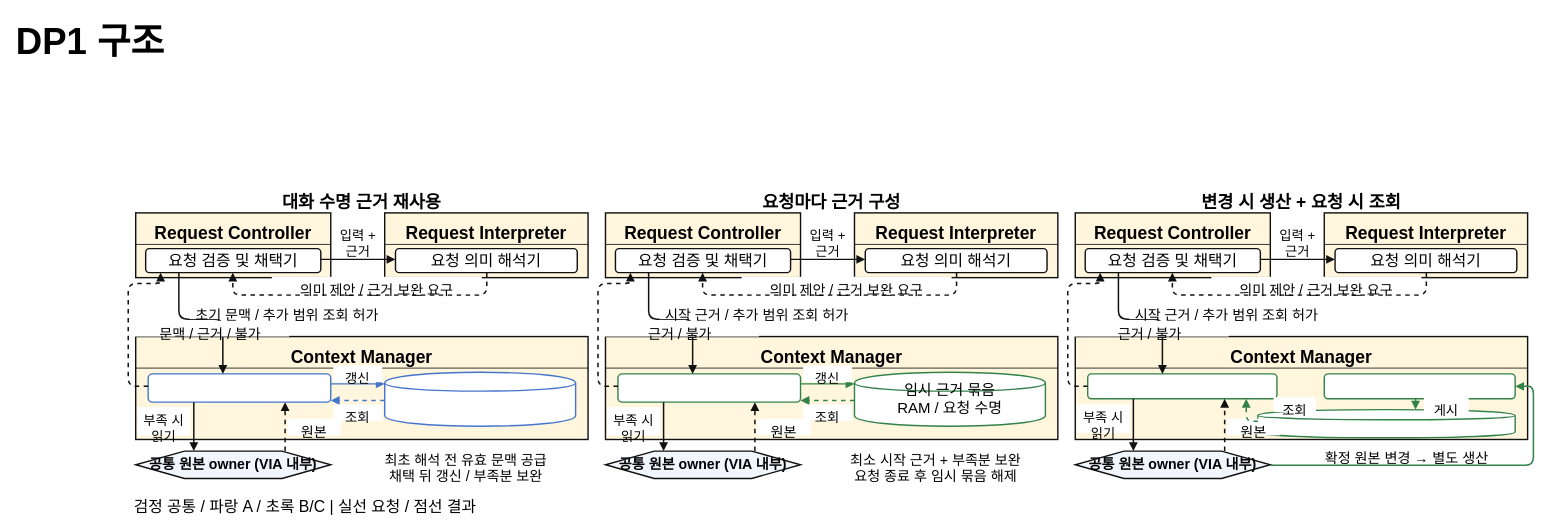
The diagram is 1555 pixels wide and 531 high, and some of its shapes have lost their labels. Here are the shapes that lost their labels. From the top down, the centre of each, then its label:
(239,387): 근거 조회 및 문맥 갱신기
(480,399): 유효 작업 문맥 RAM / 대화 수명
(709,387): 원본 조회 및 묶음 구성기
(1182,386): 게시 근거 조회 및 보완기
(1419,386): 관계 생산 및 게시기
(1386,423): 게시 근거 (내구)
